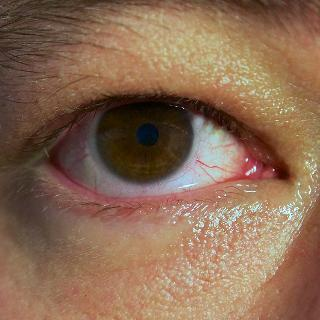pupil: (136, 123, 159, 147)
